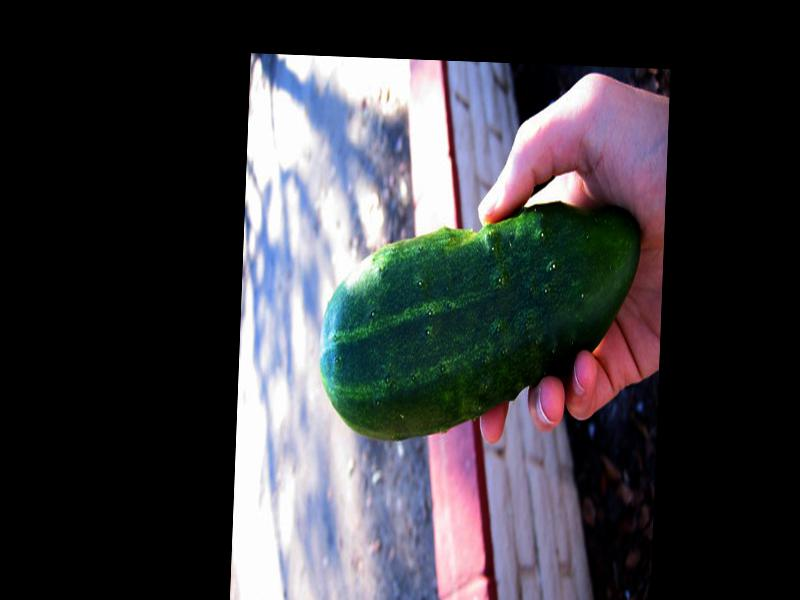Cucumber: (318, 195, 641, 452)
